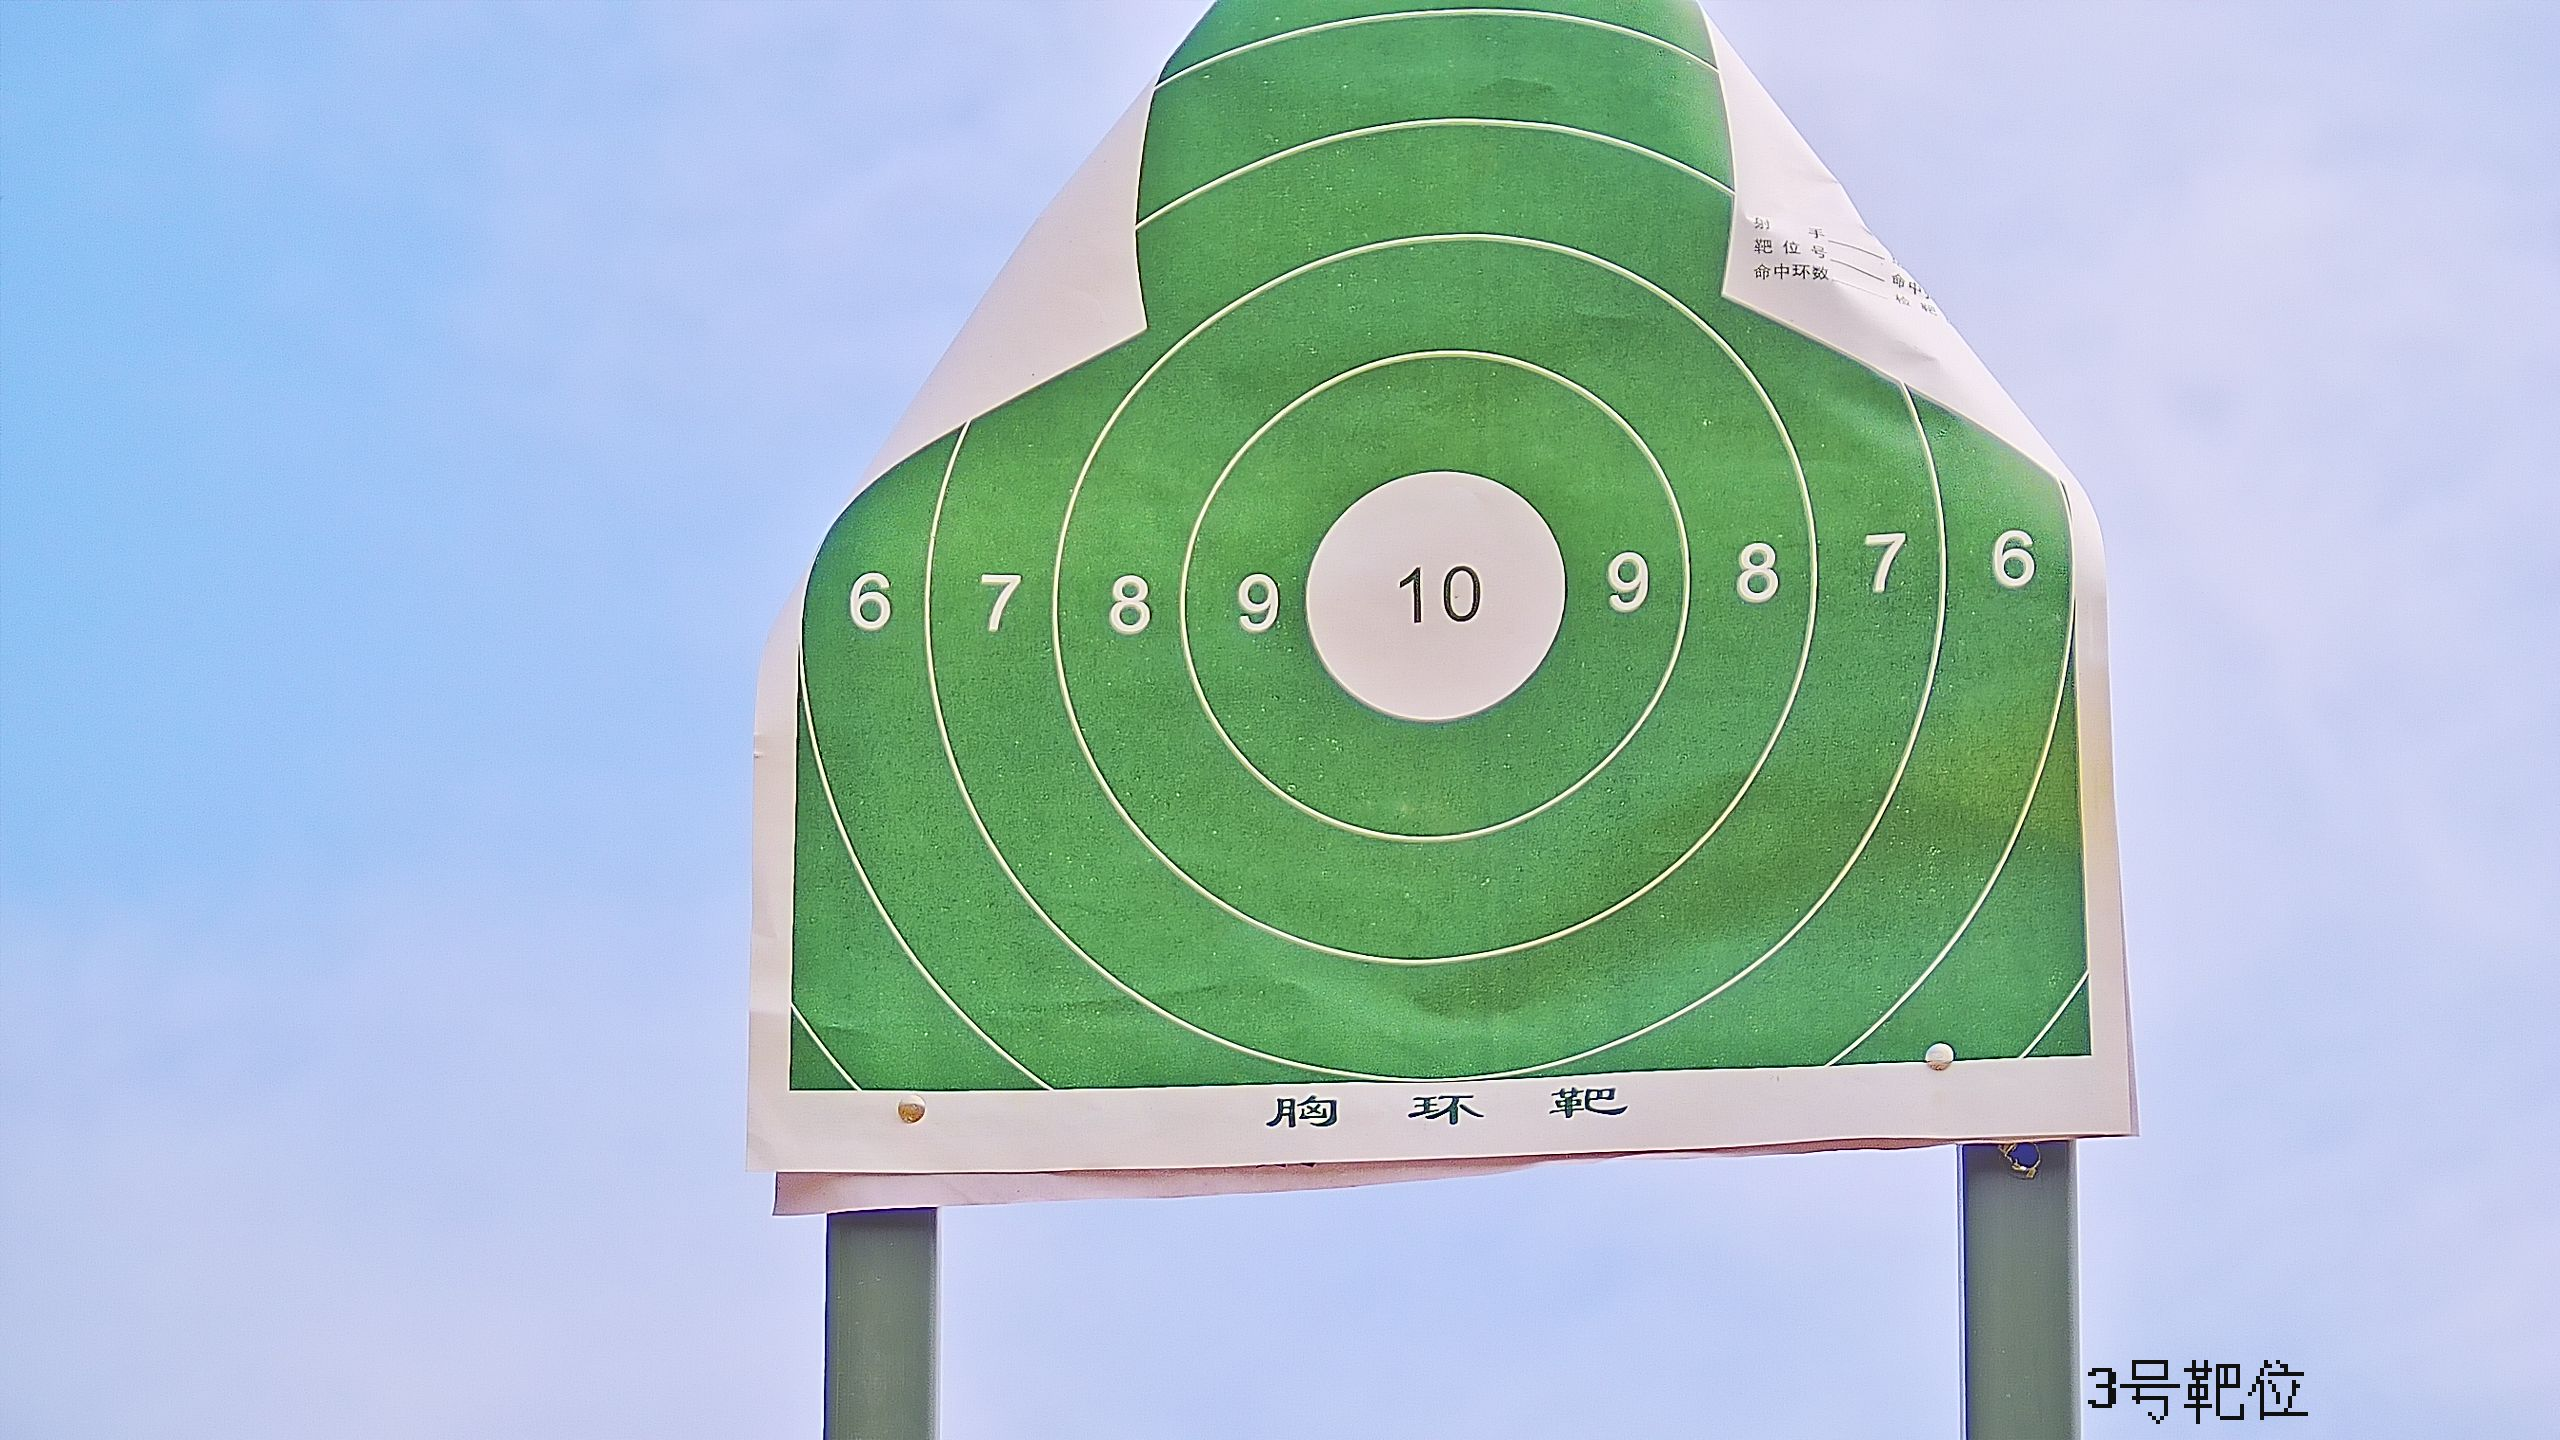kernel: (1429, 593, 1435, 600)
target: (789, 2, 2105, 1094)
ten: (1305, 468, 1568, 723)
